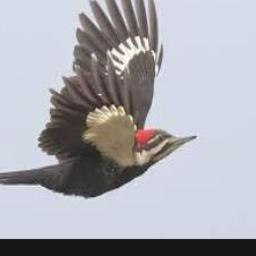Woodpecker: (0, 0, 198, 196)
